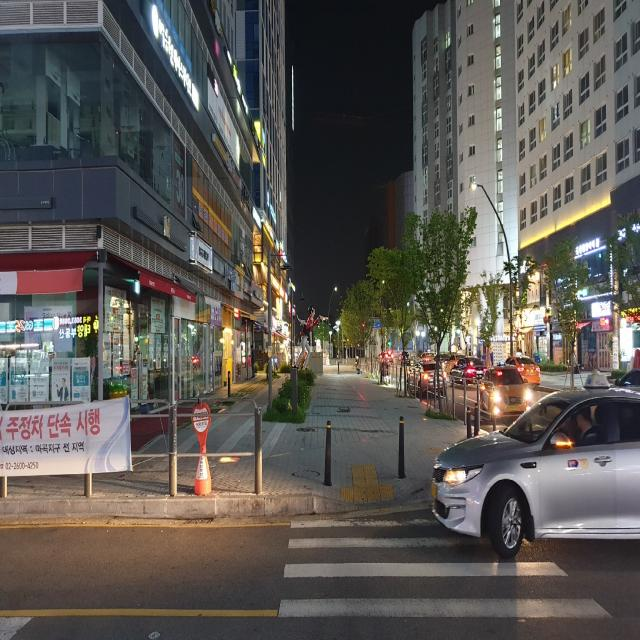횡단보도: (276, 515, 616, 623)
